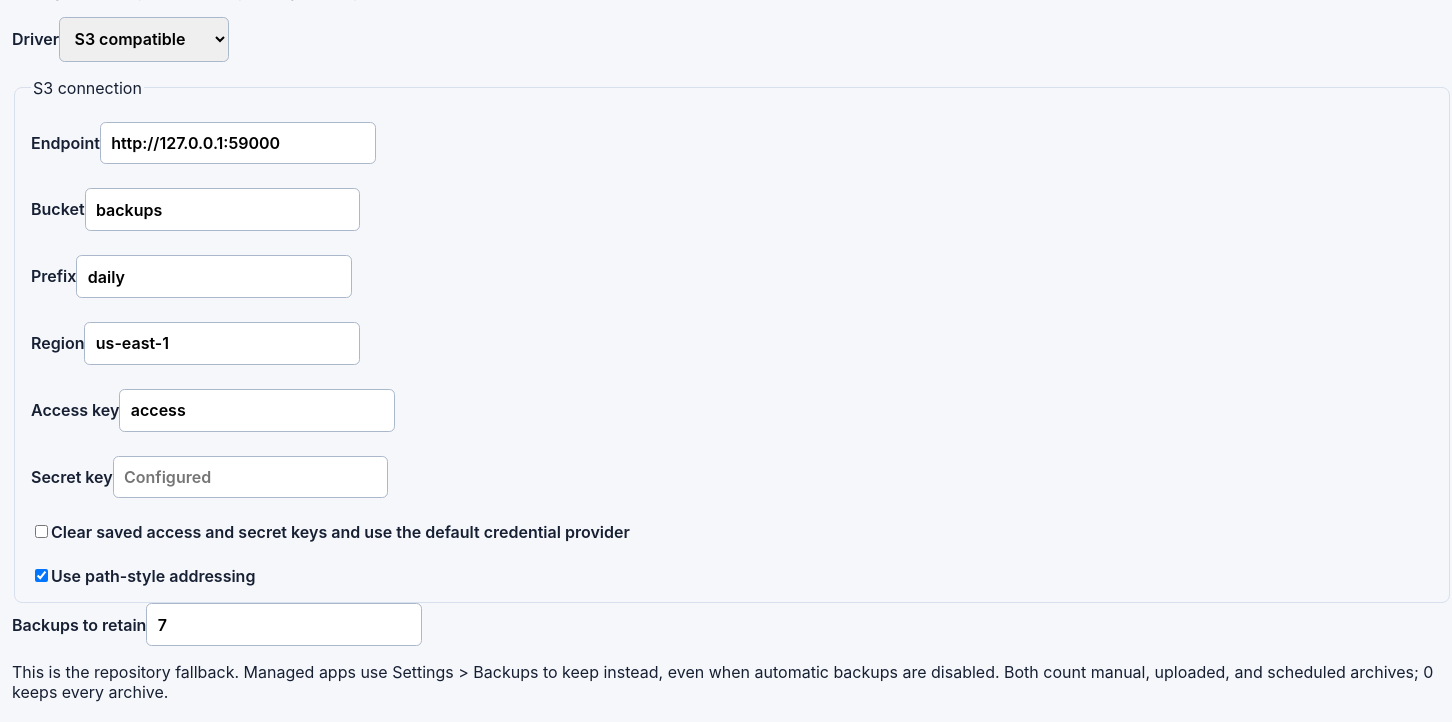
Test: saves only dirty settings with the current revision and tests only persisted settings
Check: the field showing "backups" is shown, box [84,188,360,231]
Replace the text in the field labelled "Access key" with "rotated": (257, 410) [119,389,395,432]
(page scrolled)
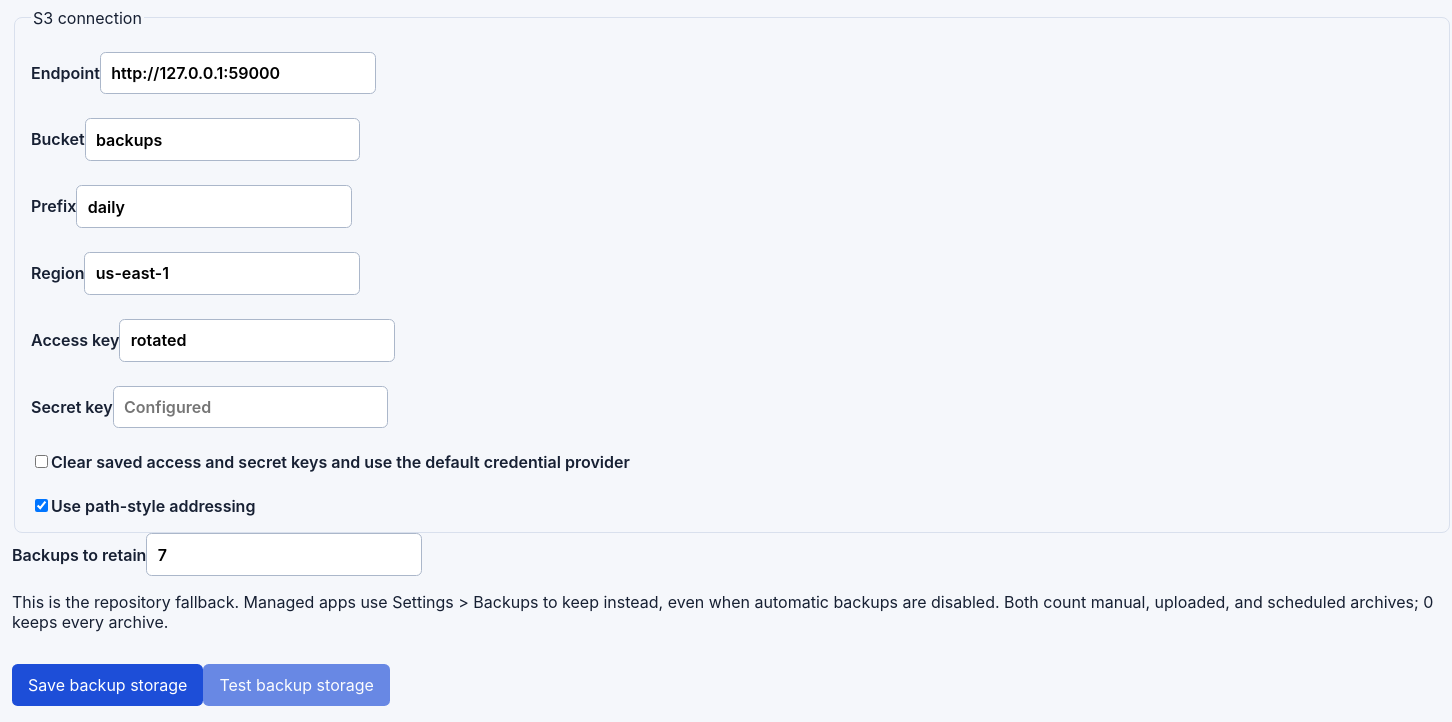
Check: the button "Test backup storage" is disabled, box [203,664,390,706]
Click the button "Save backup storage": (108, 685) [12,664,203,706]
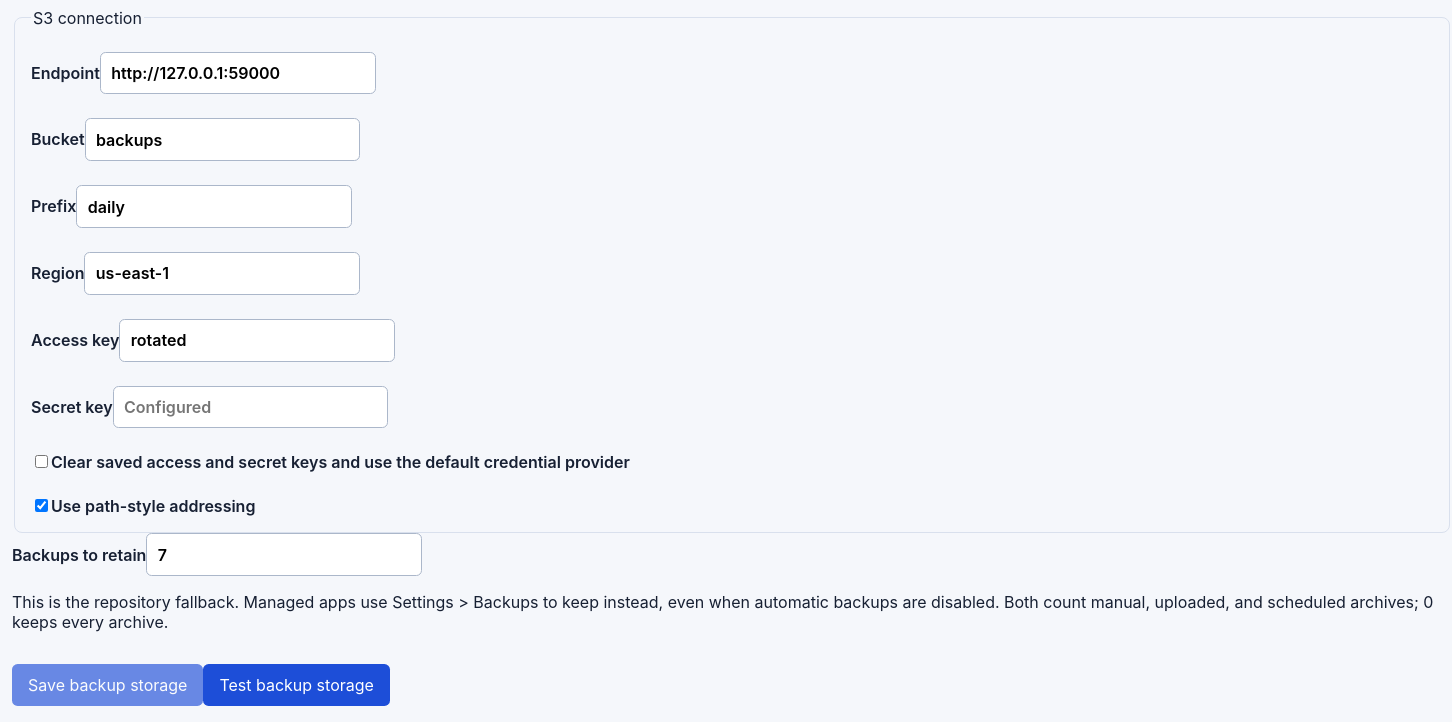
Check: the button "Save backup storage" is disabled, box [12,664,203,706]
Check: the button "Test backup storage" is enabled
Click the button "Test backup storage": (297, 685) [203,664,390,706]
(page scrolled)
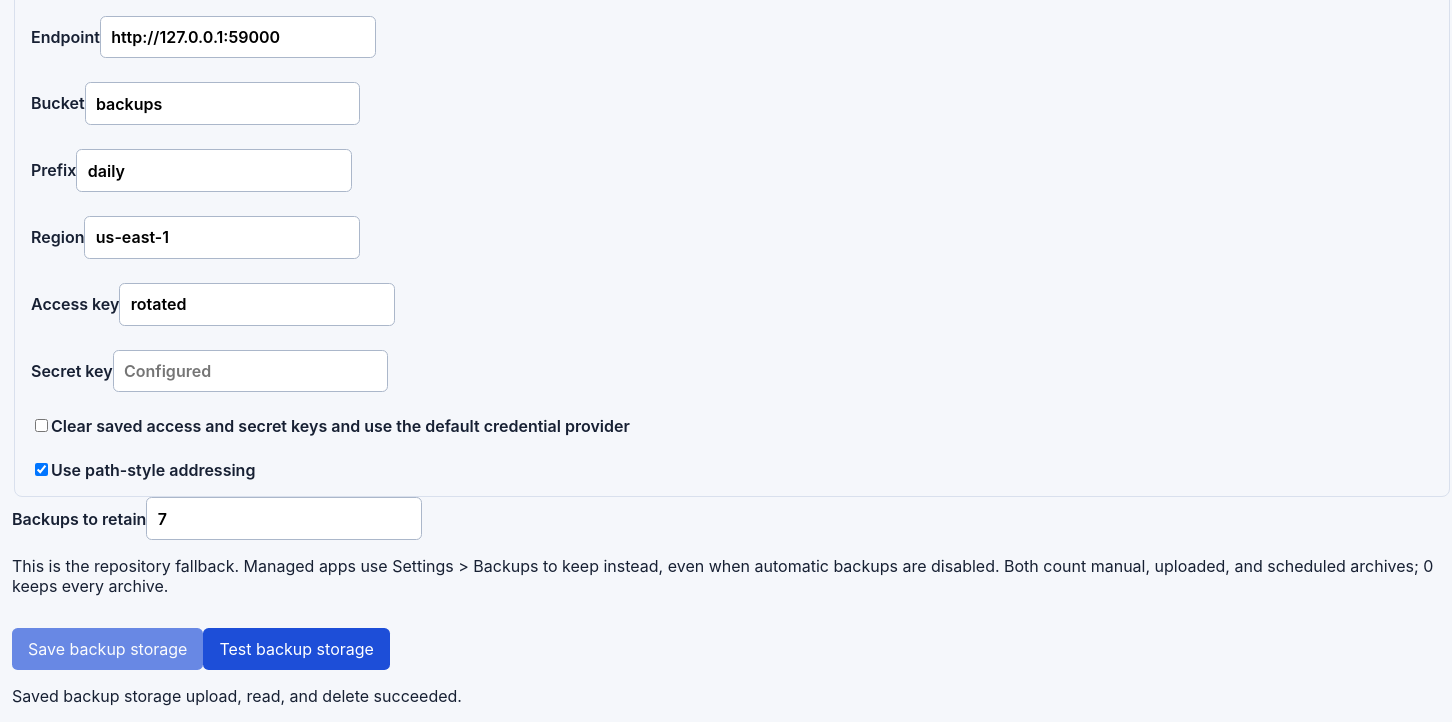
Check: the text "Saved backup storage upload, read, and delete succeeded." is shown, box [12,686,462,706]
